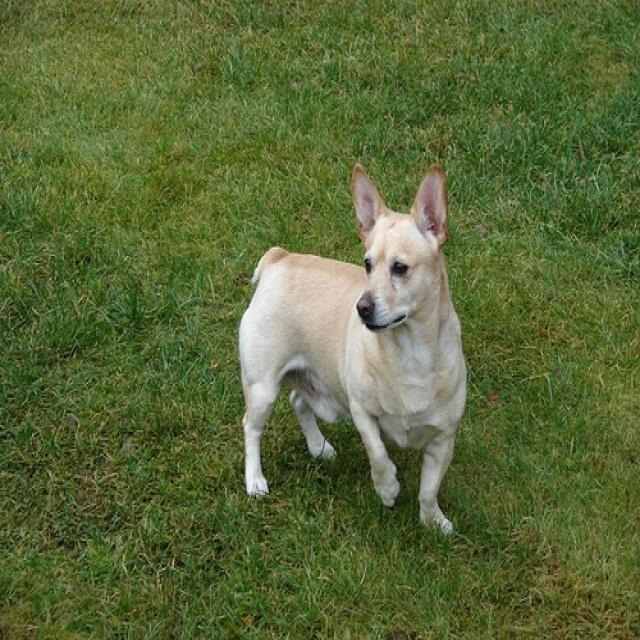dog: (237, 162, 466, 531)
